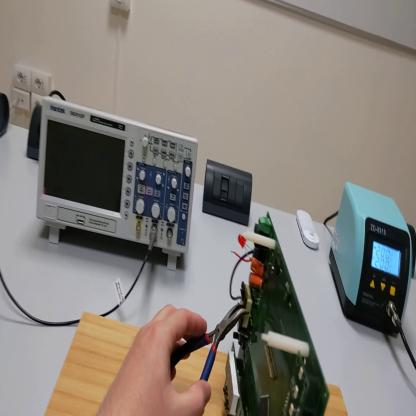hand: (98, 304, 213, 415)
low voltage board: (225, 214, 331, 416)
oscilloscope: (35, 96, 201, 273)
pliers: (172, 306, 251, 383)
socket: (26, 104, 44, 161), (1, 92, 10, 142), (408, 224, 416, 270)
welder station: (331, 181, 413, 335)
working area: (46, 316, 350, 413)
